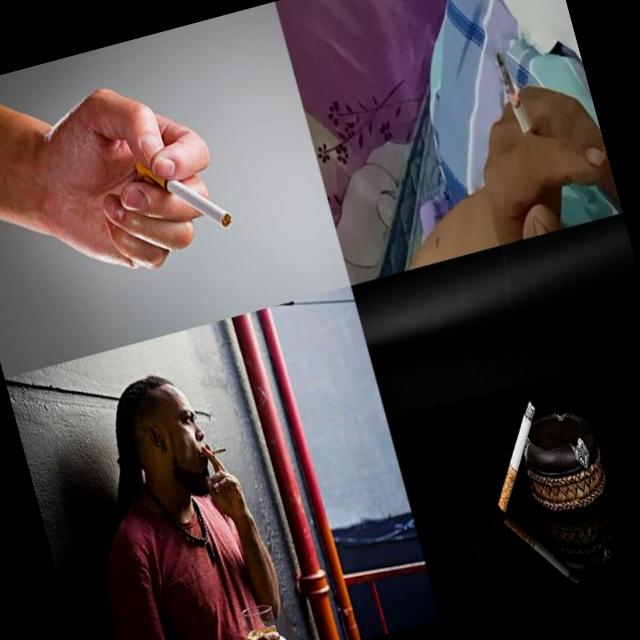smoke: (133, 140, 235, 248), (471, 394, 561, 514), (498, 499, 582, 597), (492, 47, 542, 158), (198, 441, 229, 464)
